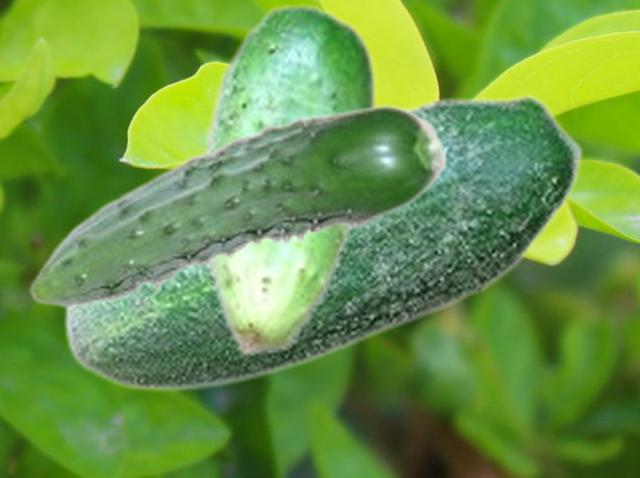cucumber: (62, 93, 584, 391), (28, 104, 448, 307), (201, 1, 376, 357)
